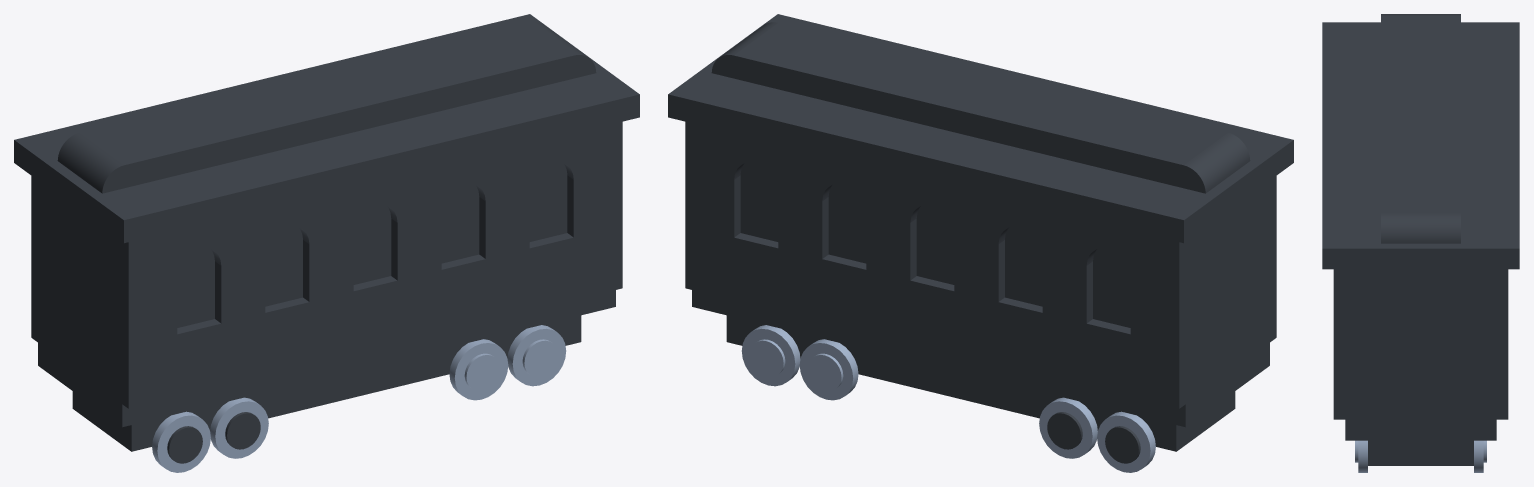
The model's file is trainWagon.fbx.
3 views of the same model, side by side, from view 1: azimuth 30°, elevation 25°; view 2: azimuth 150°, elevation 25°; view 3: azimuth 270°, elevation 25° (orthographic). The views are drawn at different scales.
Parts seen in each view (by area): view 1: trainWagon, wheel (×2); view 2: trainWagon, wheel (×2); view 3: trainWagon, wheel.
Part boxes in pixels (left/top/right/bottom): trainWagon: left=14, top=14, right=639, bottom=451; wheel (×2): left=152, top=325, right=566, bottom=472; trainWagon: left=668, top=14, right=1293, bottom=451; wheel (×2): left=741, top=325, right=1155, bottom=472; trainWagon: left=1322, top=14, right=1519, bottom=465; wheel: left=1355, top=440, right=1486, bottom=472.
Size of the model in its own units: 4.68 by 2.68 by 1.73.
